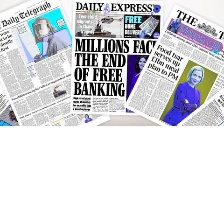news_paper: (0, 0, 112, 127), (121, 2, 224, 127), (67, 0, 164, 116), (172, 73, 223, 127), (0, 73, 24, 128)
